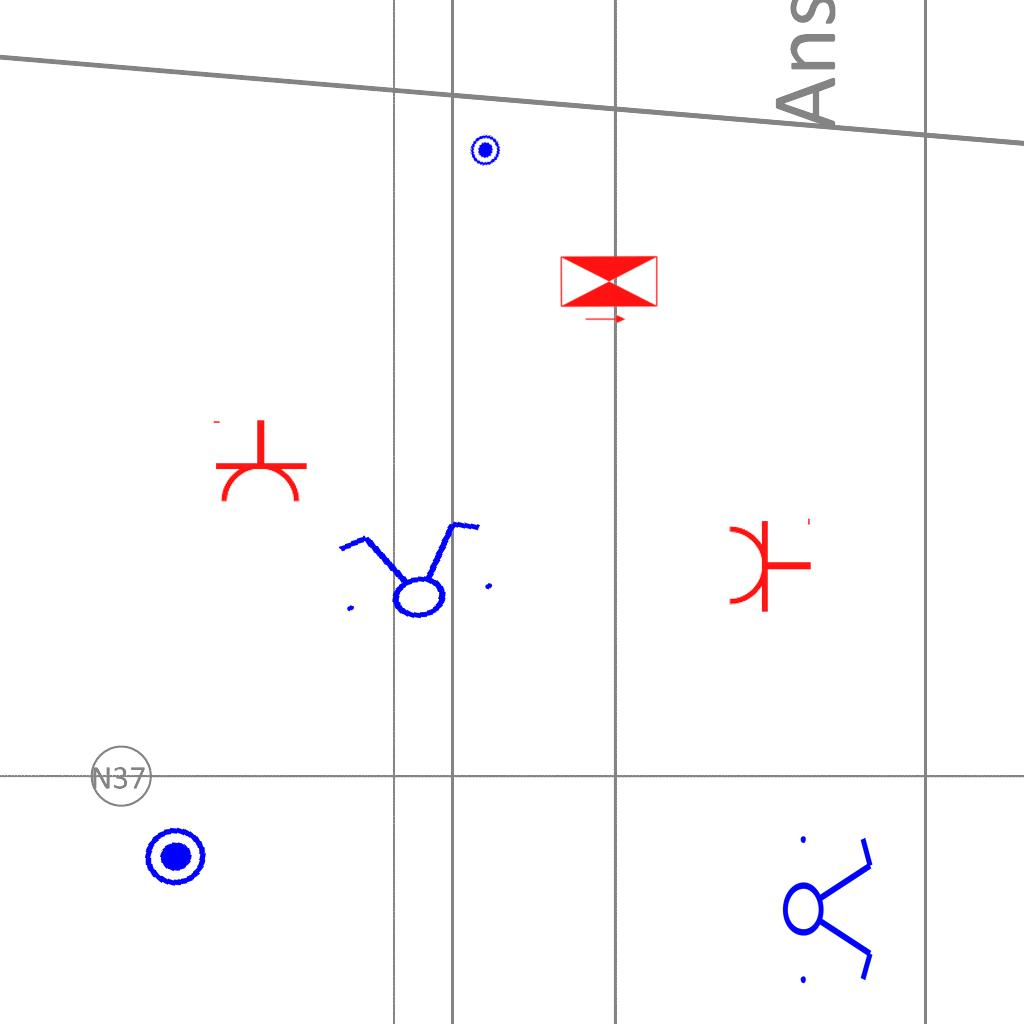Fluchtwegpiktogramm: (557, 253, 661, 326)
Schukosteckdose_einfach: (726, 514, 813, 614), (209, 418, 309, 505)
Serienschalter: (323, 511, 505, 633), (781, 824, 877, 992)
Taster: (138, 821, 214, 897), (465, 129, 508, 172)
